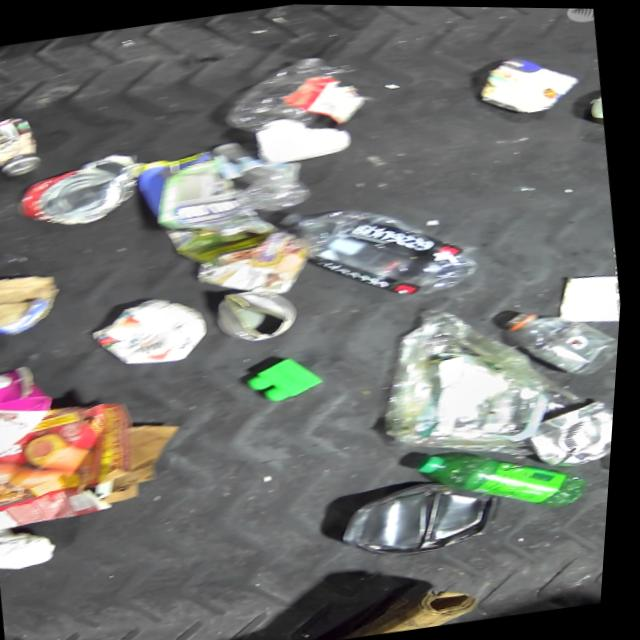can: (15, 150, 148, 233), (474, 44, 588, 121), (529, 391, 620, 470), (216, 283, 304, 347), (585, 87, 607, 125), (608, 402, 619, 475)
non_white_jug: (371, 290, 567, 466), (0, 362, 71, 478)
plastic_bottle: (275, 180, 493, 317), (214, 51, 348, 140), (497, 293, 625, 386), (207, 128, 319, 219)
